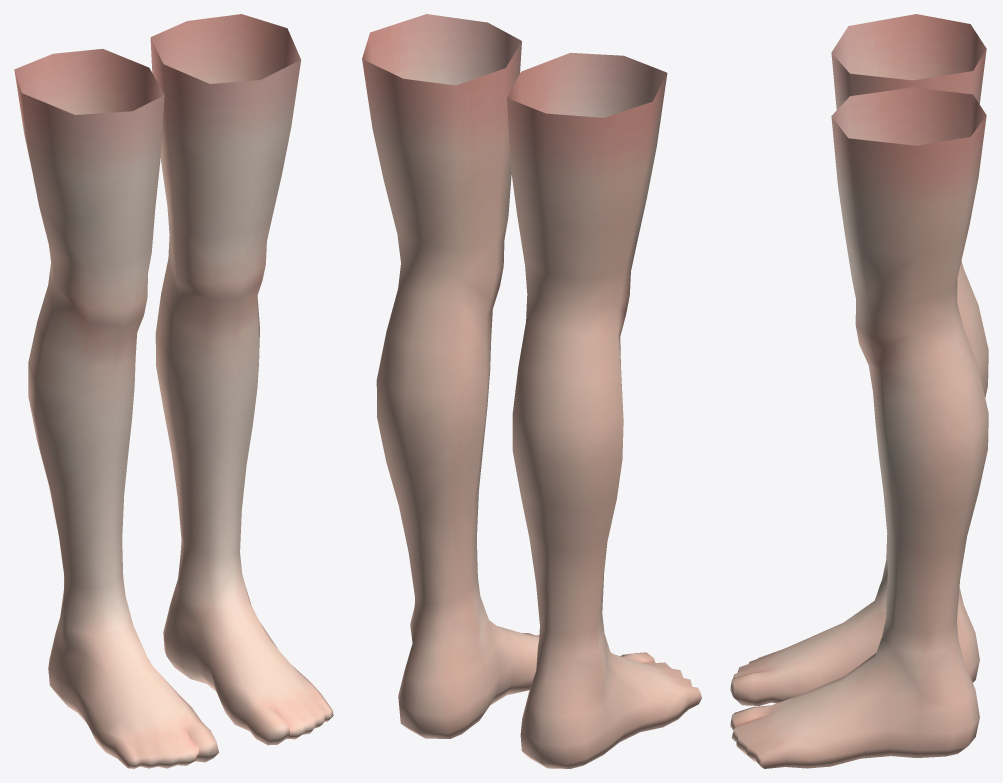
The model's file is p0_lgw0000_00_lgw00.gltf.
3 views of the same model, side by side, from view 1: azimuth 30°, elevation 25°; view 2: azimuth 150°, elevation 25°; view 3: azimuth 270°, elevation 25° (orthographic). The views are drawn at different scales.
Visible parts, largest first — view 1: lgw00_legs01_mesh_shape:legs_skin, lgw00_legs02_mesh_shape:legs_skin, lgw00_legs00_mesh_shape:legs_skin; view 2: lgw00_legs01_mesh_shape:legs_skin, lgw00_legs02_mesh_shape:legs_skin, lgw00_legs00_mesh_shape:legs_skin; view 3: lgw00_legs01_mesh_shape:legs_skin, lgw00_legs00_mesh_shape:legs_skin, lgw00_legs02_mesh_shape:legs_skin.
Part boxes in pixels (x1=…): lgw00_legs01_mesh_shape:legs_skin: x1=28, y1=156, x2=281, y2=548; lgw00_legs02_mesh_shape:legs_skin: x1=14, y1=14, x2=300, y2=223; lgw00_legs00_mesh_shape:legs_skin: x1=48, y1=500, x2=333, y2=768; lgw00_legs01_mesh_shape:legs_skin: x1=376, y1=170, x2=646, y2=593; lgw00_legs02_mesh_shape:legs_skin: x1=362, y1=14, x2=667, y2=231; lgw00_legs00_mesh_shape:legs_skin: x1=398, y1=539, x2=701, y2=768; lgw00_legs01_mesh_shape:legs_skin: x1=845, y1=227, x2=988, y2=594; lgw00_legs00_mesh_shape:legs_skin: x1=730, y1=534, x2=979, y2=768; lgw00_legs02_mesh_shape:legs_skin: x1=831, y1=14, x2=986, y2=255.
Size of what is drawn, in the model's own units: 0.2758 by 0.6251 by 0.2287.
Materials: 1 (1 with a texture image).
